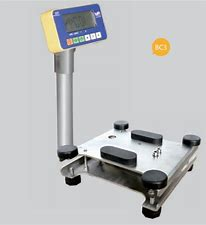Industrial Scale: (38, 2, 202, 219)
